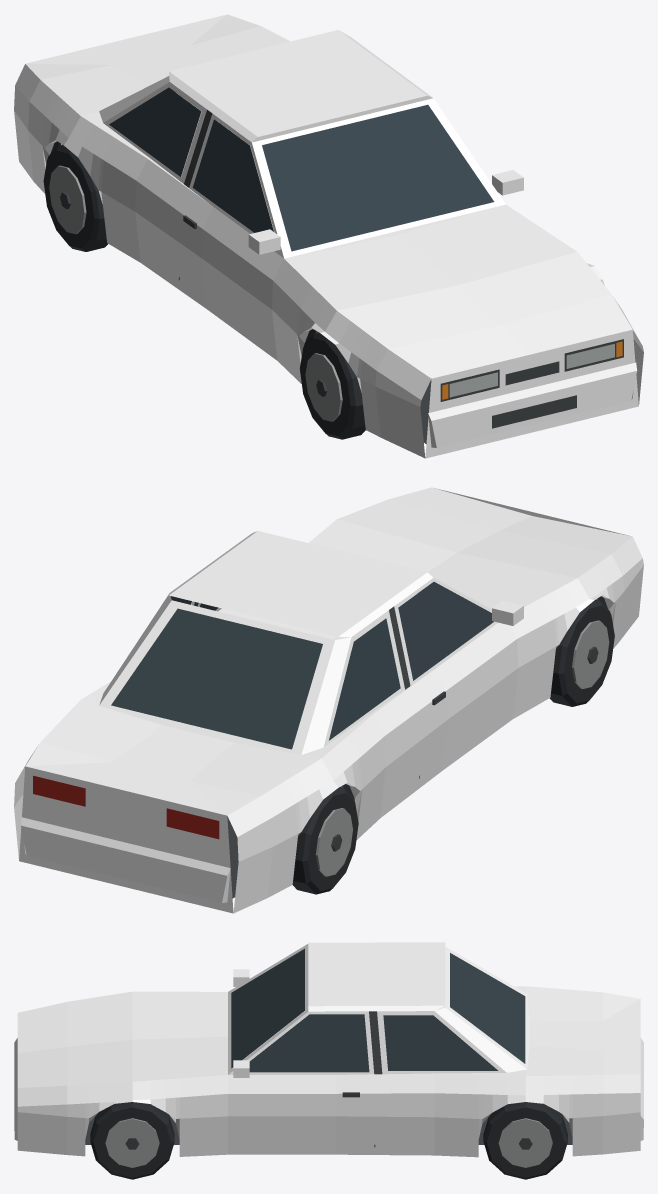
Rendered from ostwerk_luchs.glb.
3 renders of one model, top to bottom at view 1: azimuth 30°, elevation 25°; view 2: azimuth 150°, elevation 25°; view 3: azimuth 270°, elevation 25°, orthographic. The views are drawn at different scales.
Visible parts, largest first — view 1: ostwerk_luchs; view 2: ostwerk_luchs; view 3: ostwerk_luchs.
Part boxes in pixels (x1,y1,x2,y2): ostwerk_luchs: [14, 14, 643, 458]; ostwerk_luchs: [14, 487, 643, 913]; ostwerk_luchs: [14, 942, 643, 1179].
Bounding box in the file's own units: 1.8 × 1.29 × 4.66.
8 materials, 1 textured.
